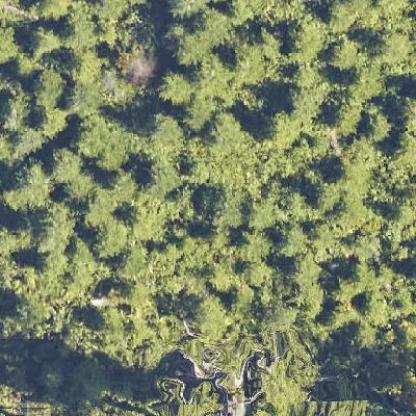tree-top: (34, 207, 78, 257), (69, 113, 110, 155), (228, 44, 270, 81), (325, 32, 360, 76), (327, 91, 361, 135), (30, 66, 60, 112), (27, 23, 59, 60), (263, 109, 295, 144), (363, 106, 394, 140), (278, 224, 306, 254)
